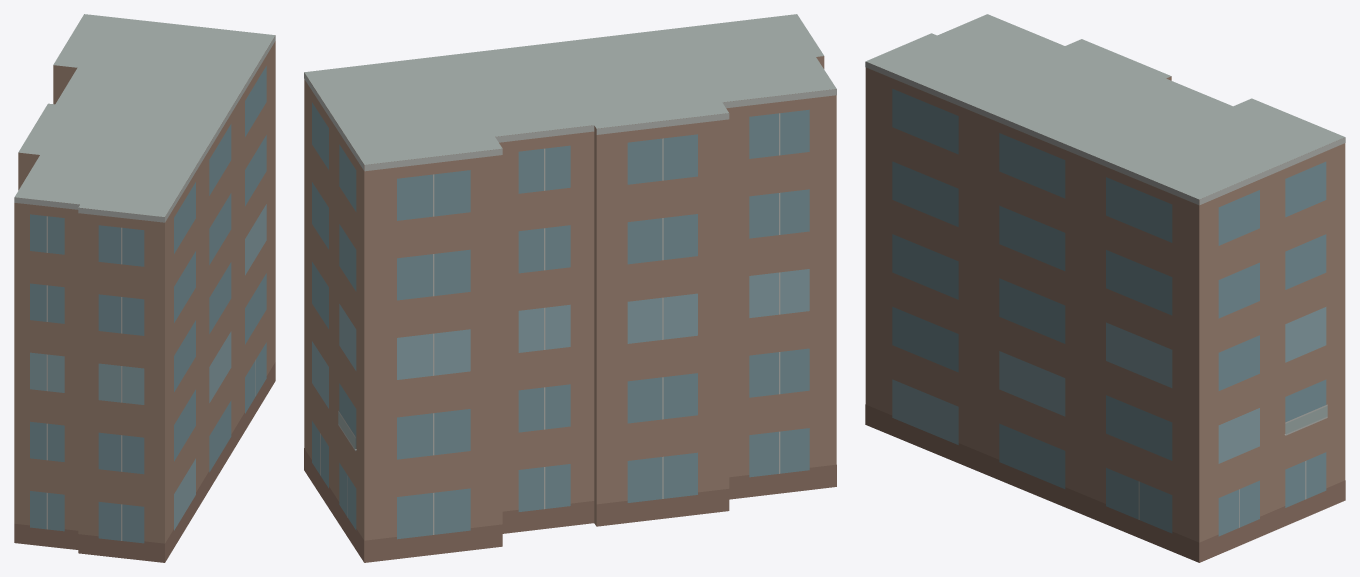
Rendered from survey-upis-33000901.glb.
3 views of the same model, side by side, from view 1: azimuth 30°, elevation 25°; view 2: azimuth 150°, elevation 25°; view 3: azimuth 270°, elevation 25° (orthographic). The views are drawn at different scales.
Parts seen in each view (by area): view 1: survey-upis-33000901.tmp; view 2: survey-upis-33000901.tmp; view 3: survey-upis-33000901.tmp.
Part boxes in pixels (box(x1,y1,x2,y2)): survey-upis-33000901.tmp: box(14, 14, 275, 562); survey-upis-33000901.tmp: box(304, 14, 836, 562); survey-upis-33000901.tmp: box(865, 14, 1345, 562).
Size of the model in its own units: 16.71 by 15.25 by 18.26.
